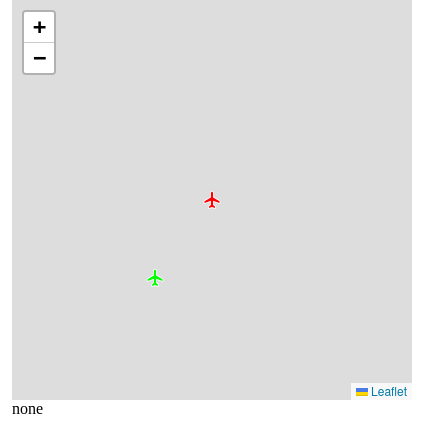
Test: PlanesLayer › selects the plane on click and marks the icon as selected
Step 1. Click the button titled "plane-2" → {"x": 155, "y": 278}, box x1=145 y1=268 x2=165 y2=288
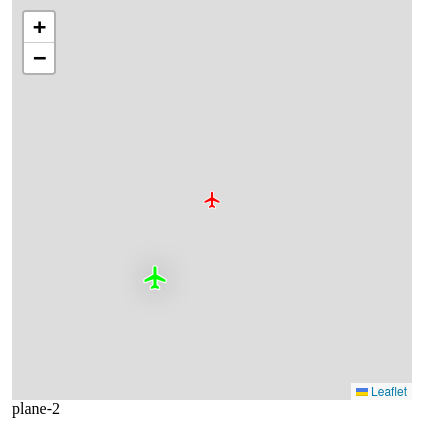
Expected: the text with test id "selected" reads "plane-2", x1=12 y1=400 x2=60 y2=417
